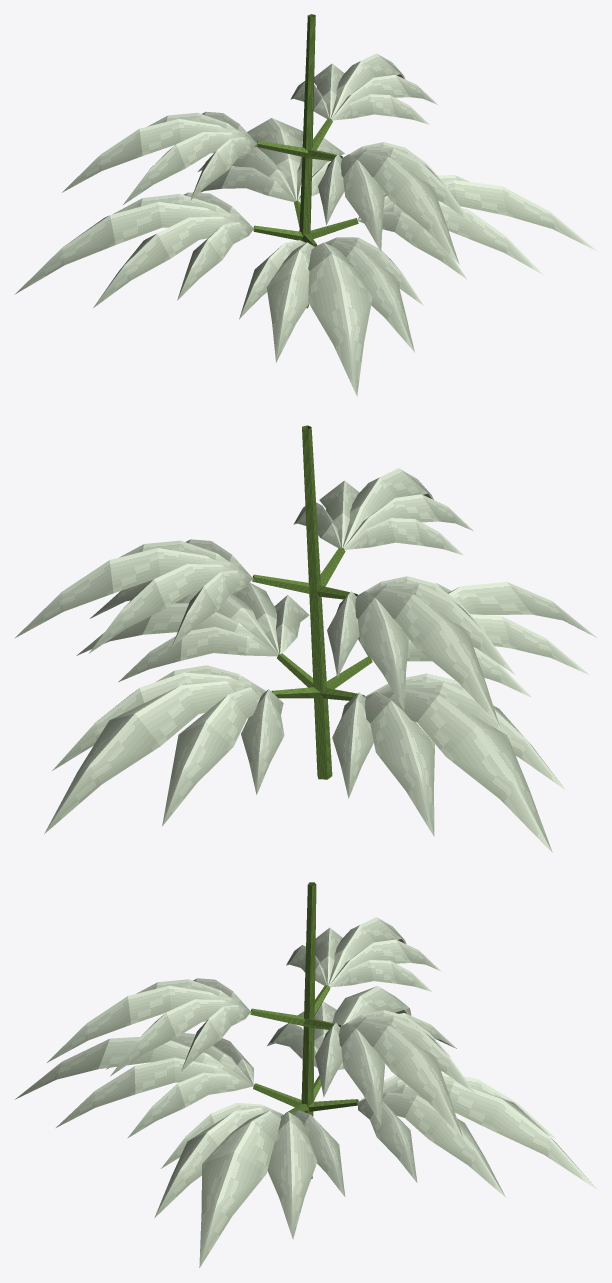
The model's file is bushy_1.obj.
3 renders of one model, top to bottom at view 1: azimuth 30°, elevation 25°; view 2: azimuth 150°, elevation 25°; view 3: azimuth 270°, elevation 25°, orthographic. The views are drawn at different scales.
Parts seen in each view (by area): view 1: plant; view 2: plant; view 3: plant.
Boxes of the visible parts, x1,y1,x2,y2 form: plant: (14, 14, 597, 396); plant: (14, 425, 596, 852); plant: (15, 882, 597, 1267).
Bounding box in the file's own units: 0.894 × 0.5068 × 0.894.
